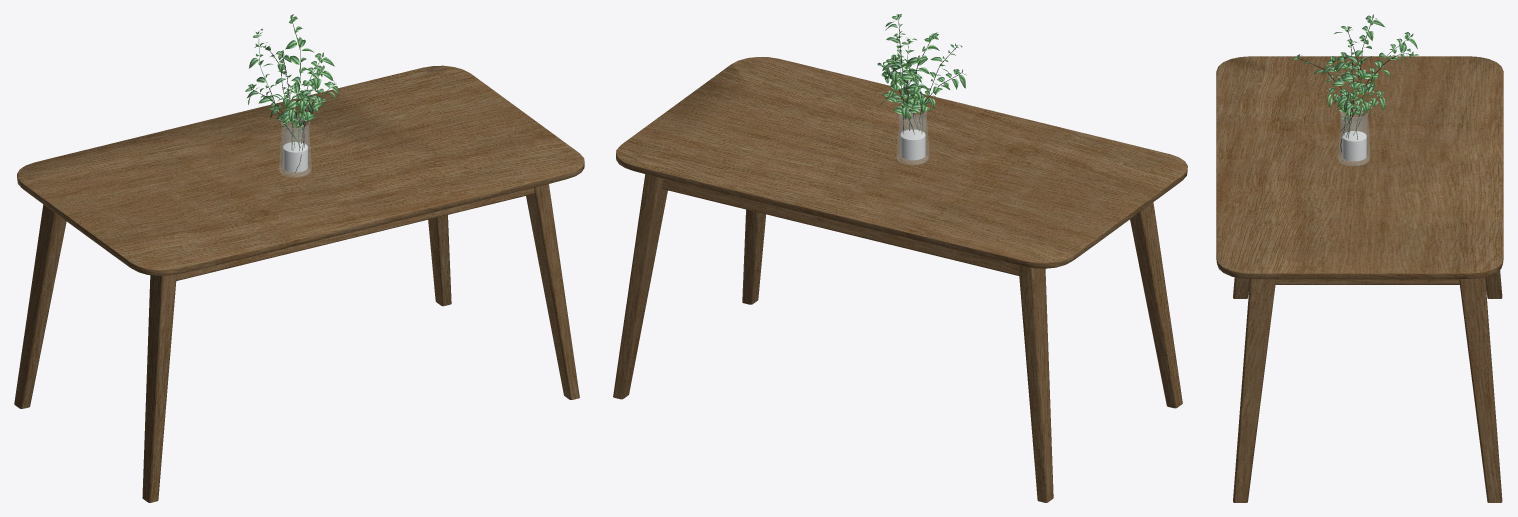
Rendered from a85d4f2f-b1d6-4a05-8e54-a3ba0b7efe9f.glb.
3 renders of one model, left to right at view 1: azimuth 30°, elevation 25°; view 2: azimuth 150°, elevation 25°; view 3: azimuth 270°, elevation 25°, orthographic.
Parts seen in each view (by area): view 1: legs, leafs, flowe_base, water; view 2: legs, leafs, flowe_base, water; view 3: legs, leafs, flowe_base, water.
Boxes of the visible parts, <box> form: legs: <box>14,65,584,502</box>; leafs: <box>245,14,338,172</box>; flowe_base: <box>279,117,311,177</box>; water: <box>283,142,307,172</box>; legs: <box>613,57,1187,502</box>; leafs: <box>877,14,966,134</box>; flowe_base: <box>896,104,928,164</box>; water: <box>900,129,925,160</box>; legs: <box>1216,56,1503,502</box>; leafs: <box>1292,14,1418,151</box>; flowe_base: <box>1338,106,1370,165</box>; water: <box>1342,131,1366,161</box>.
Bounding box in the file's own units: 1.82 × 1.49 × 1.02.
Materials: 4 (2 with a texture image).
